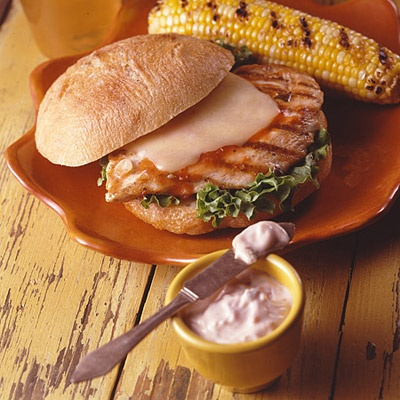background: (21, 0, 249, 215)
